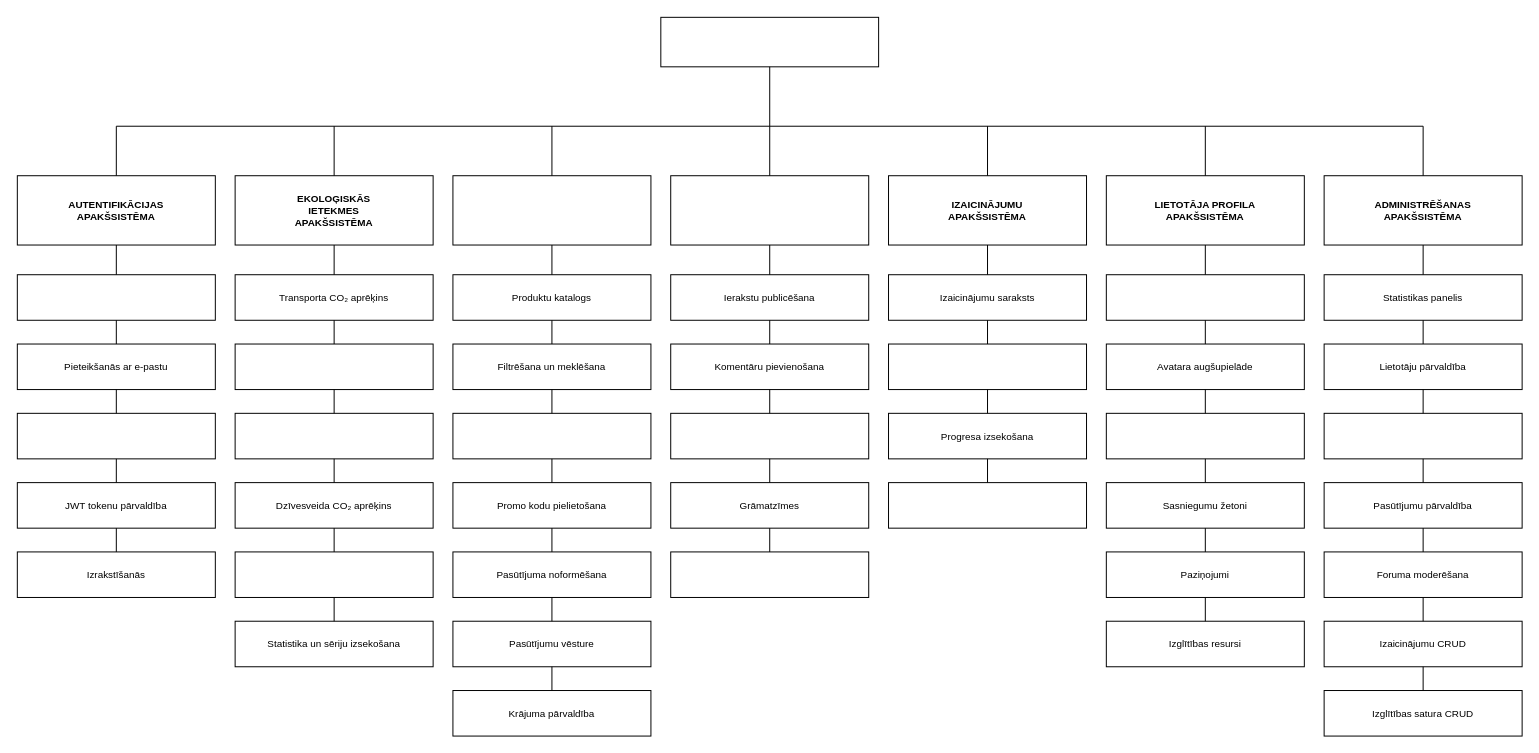
Image size: 1539x753. Some labels were removed from this diagram. The shapes that lost their labels are listed below. From the top down, each one's box as (x1, y1, x2, y2) in pixels, then its label:
(660, 16, 879, 67): ECO PAKALPOJUMI SISTĒMA
(452, 175, 651, 245): E-KOMERCIJAS APAKŠSISTĒMA
(670, 175, 869, 245): KOPIENAS FORUMA APAKŠSISTĒMA
(16, 274, 215, 320): Reģistrācija
(1105, 274, 1304, 320): Profila rediģēšana
(234, 343, 433, 390): Mājas CO₂ aprēķins
(888, 343, 1087, 390): Pievienošanās izaicinājumam
(16, 412, 215, 459): Pieteikšanās ar Google OAuth
(234, 412, 433, 459): Ēdiena CO₂ aprēķins
(452, 412, 651, 459): Iepirkumu grozs
(670, 412, 869, 459): „Patīk" atzīmes
(1105, 412, 1304, 459): XP punkti un līmeņi
(1323, 412, 1522, 459): Produktu CRUD
(888, 482, 1087, 528): Izpildes apstiprināšana
(234, 551, 433, 597): Aktivitāšu reģistrēšana
(670, 551, 869, 597): Meklēšana un filtrēšana
